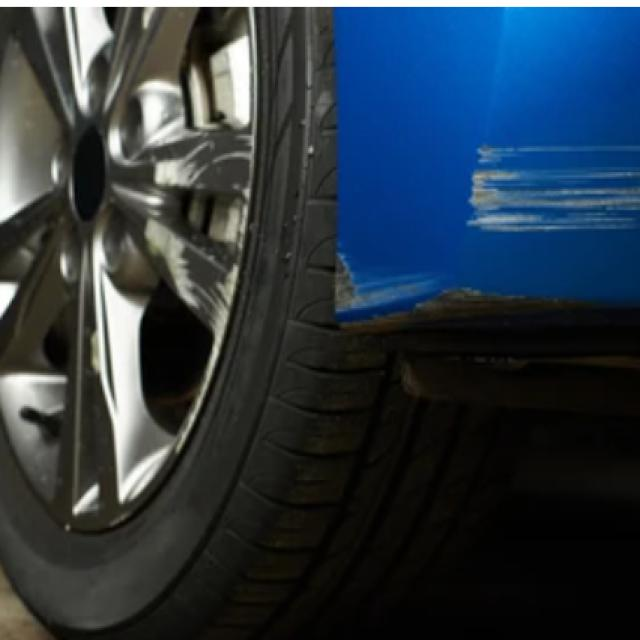scratch: (460, 133, 640, 246), (322, 250, 442, 303)
